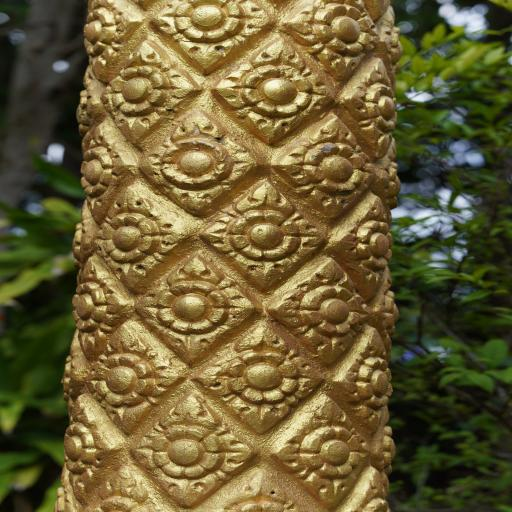hoa: (87, 353, 177, 416), (138, 422, 228, 482), (211, 205, 304, 263), (214, 347, 300, 408), (296, 282, 368, 341), (155, 282, 229, 338), (236, 63, 318, 113), (301, 142, 372, 196), (297, 423, 365, 478), (156, 136, 228, 186), (312, 4, 379, 56), (40, 418, 99, 473), (102, 69, 169, 117), (94, 208, 160, 256), (178, 1, 243, 46), (64, 278, 116, 334), (74, 147, 121, 196), (77, 6, 122, 56)
